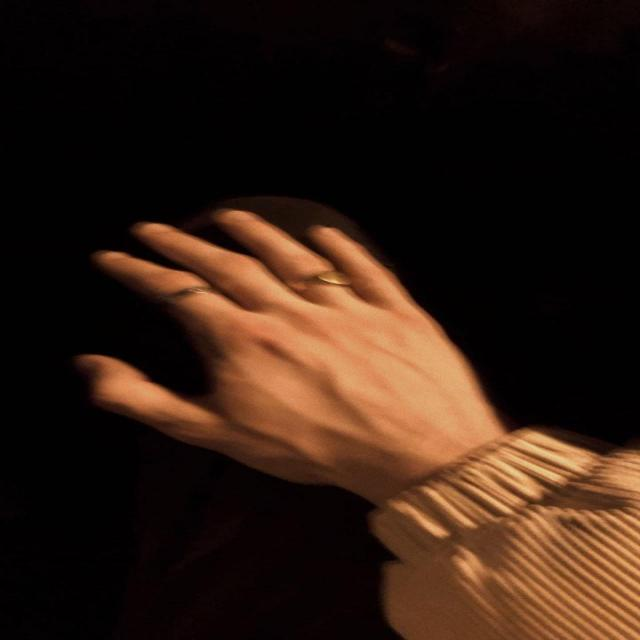hand: (77, 208, 510, 505)
